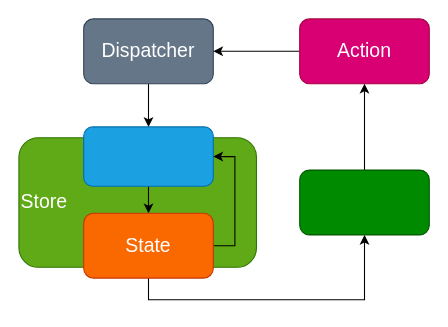
The diagram is 448 pixels wide and 327 high, and some of its shapes have lost their labels. The centre of each missing label's shape, as x and y in pixels:
"Reducer" belongs at [148,156].
"View" belongs at [364,202].
